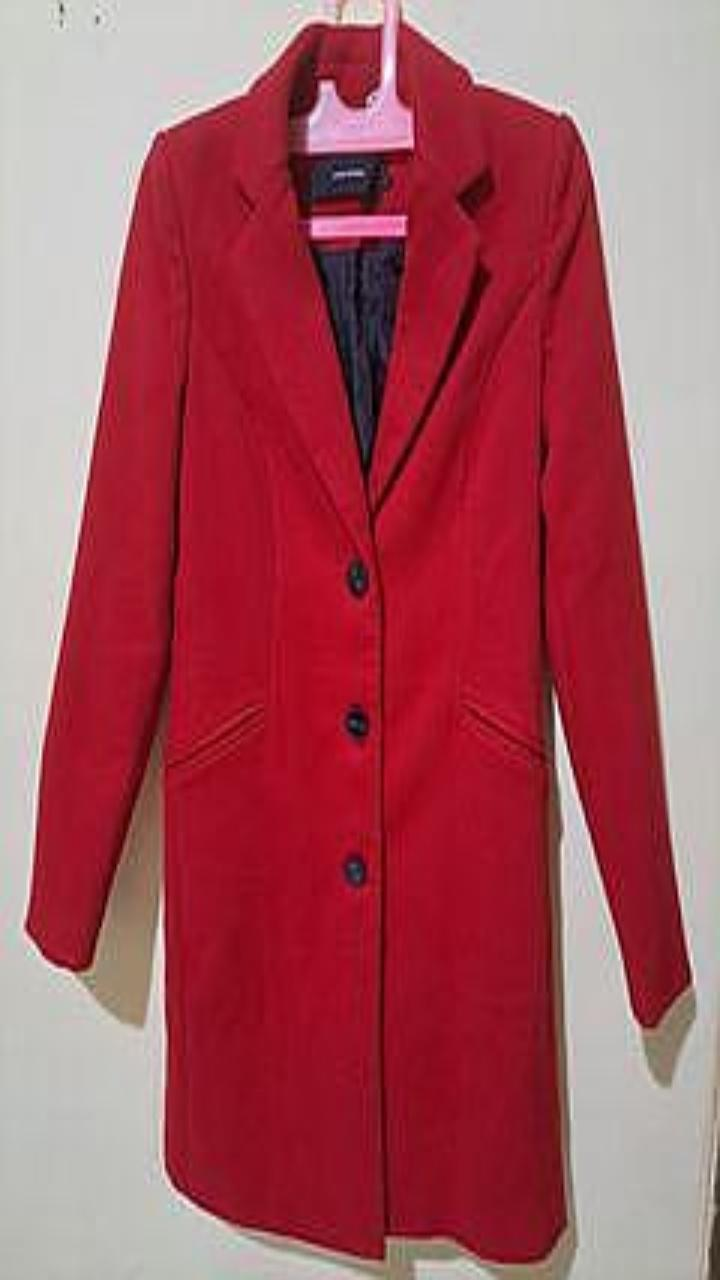Coat: (26, 22, 690, 1261)
